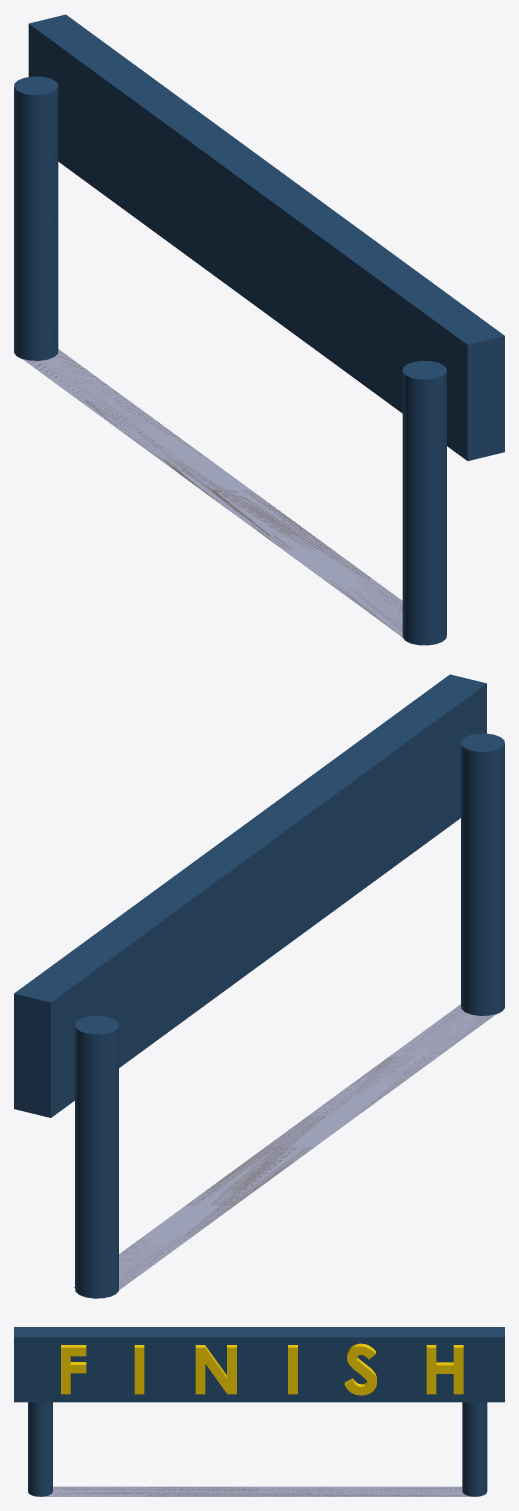
File: finishline.obj
3 views of the same model, one above another, from view 1: azimuth 30°, elevation 25°; view 2: azimuth 150°, elevation 25°; view 3: azimuth 270°, elevation 25° (orthographic). The views are drawn at different scales.
Visible parts, largest first — view 1: Mesh1 box Model, Mesh21 Model, Mesh3 cylinder Model, Mesh6 cylinder1 Model; view 2: Mesh1 box Model, Mesh21 Model, Mesh6 cylinder1 Model, Mesh3 cylinder Model; view 3: Mesh1 box Model, Mesh21 Model, Mesh6 cylinder1 Model, Mesh3 cylinder Model, Mesh11 F__I__N__I__S__H1 Model, Mesh14 F__I__N__I__S__H1 Model, Mesh13 F__I__N__I__S__H1 Model, Mesh9 F__I__N__I__S__H1 Model, Mesh10 F__I__N__I__S__H1 Model, Mesh12 F__I__N__I__S__H1 Model.
Boxes of the visible parts, left/top/right/bottom form: Mesh1 box Model: left=28, top=14, right=504, bottom=460; Mesh21 Model: left=23, top=349, right=402, bottom=636; Mesh3 cylinder Model: left=402, top=361, right=446, bottom=645; Mesh6 cylinder1 Model: left=14, top=76, right=58, bottom=360; Mesh1 box Model: left=14, top=674, right=486, bottom=1117; Mesh21 Model: left=74, top=1004, right=495, bottom=1290; Mesh6 cylinder1 Model: left=75, top=1016, right=118, bottom=1298; Mesh3 cylinder Model: left=461, top=733, right=504, bottom=1015; Mesh1 box Model: left=14, top=1327, right=504, bottom=1402; Mesh21 Model: left=40, top=1486, right=479, bottom=1496; Mesh6 cylinder1 Model: left=462, top=1402, right=487, bottom=1496; Mesh3 cylinder Model: left=28, top=1402, right=52, bottom=1496; Mesh11 F__I__N__I__S__H1 Model: left=195, top=1345, right=236, bottom=1394; Mesh14 F__I__N__I__S__H1 Model: left=426, top=1345, right=463, bottom=1394; Mesh13 F__I__N__I__S__H1 Model: left=344, top=1343, right=376, bottom=1395; Mesh9 F__I__N__I__S__H1 Model: left=61, top=1345, right=86, bottom=1394; Mesh10 F__I__N__I__S__H1 Model: left=134, top=1345, right=144, bottom=1394; Mesh12 F__I__N__I__S__H1 Model: left=288, top=1345, right=297, bottom=1394.
Size of the model in its own units: 119 by 400 by 1048.
